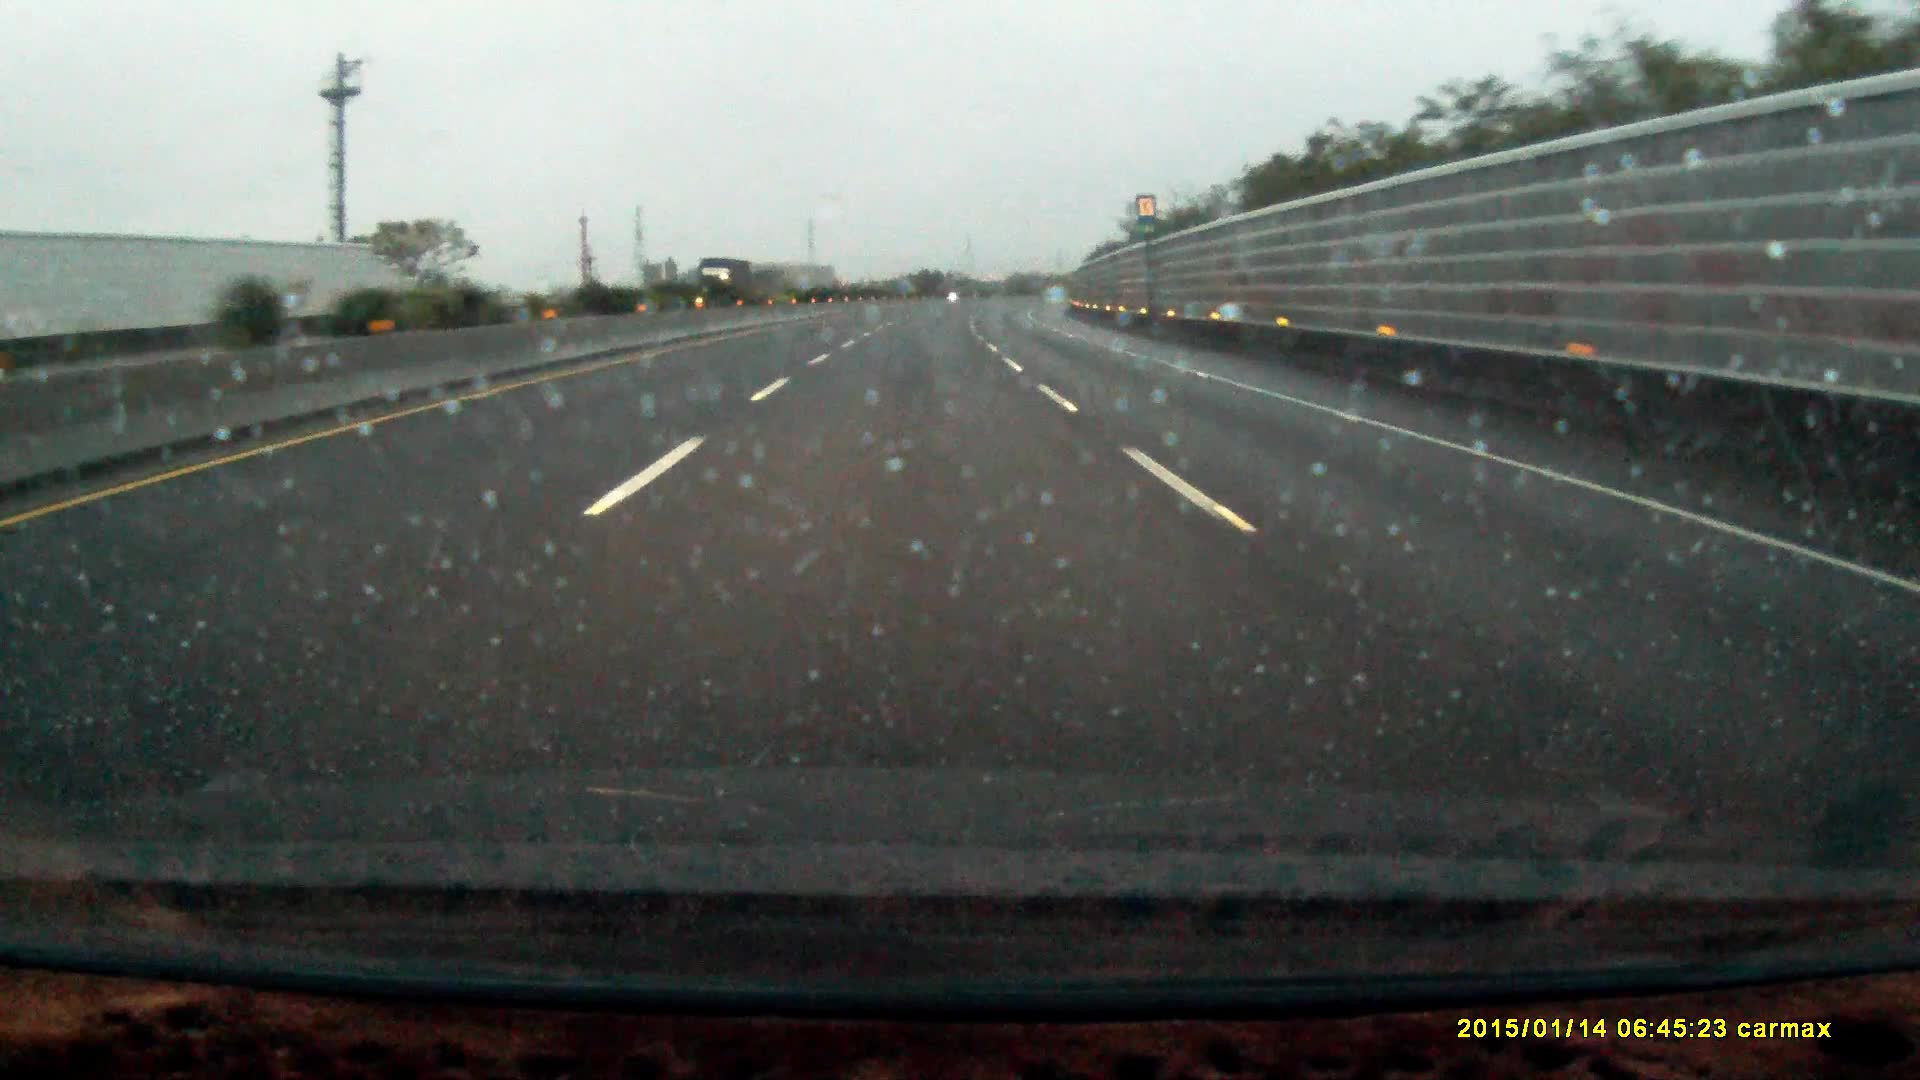vehicle: (698, 258, 752, 301)
